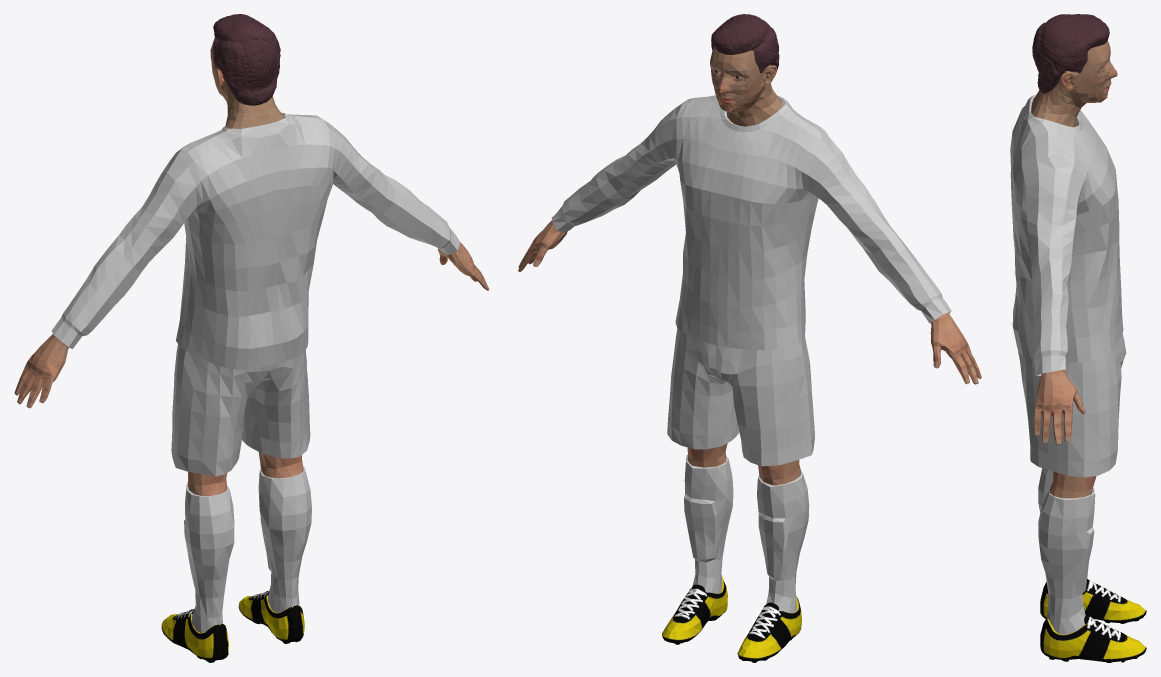
File: long-untucked.obj
The picture shows the model from 3 angles, left to right: view 1: azimuth 30°, elevation 25°; view 2: azimuth 150°, elevation 25°; view 3: azimuth 270°, elevation 25°; orthographic projection. The views are drawn at different scales.
Parts seen in each view (by area): view 1: long-untucked, untucked, base_socks, hair_short_04.001, base_boots.001, base_hands, base_head.002, base_knees; view 2: long-untucked, untucked, base_socks, base_boots.001, base_head.002, base_hands, hair_short_04.001, base_knees; view 3: long-untucked, untucked, base_socks, base_boots.001, hair_short_04.001, base_head.002, base_hands, base_knees.
Boxes of the visible parts, bbox=[...] form: long-untucked: bbox=[51, 113, 459, 369]; untucked: bbox=[171, 344, 310, 476]; base_socks: bbox=[184, 466, 311, 633]; hair_short_04.001: bbox=[213, 14, 280, 105]; base_boots.001: bbox=[161, 590, 304, 662]; base_hands: bbox=[14, 242, 489, 408]; base_head.002: bbox=[210, 37, 283, 128]; base_knees: bbox=[187, 452, 303, 495]; long-untucked: bbox=[551, 95, 951, 350]; untucked: bbox=[667, 328, 814, 466]; base_socks: bbox=[684, 454, 809, 612]; base_boots.001: bbox=[662, 576, 801, 662]; base_head.002: bbox=[710, 45, 782, 126]; base_hands: bbox=[518, 220, 981, 384]; hair_short_04.001: bbox=[711, 14, 779, 73]; base_knees: bbox=[687, 443, 801, 485]; long-untucked: bbox=[1010, 94, 1123, 375]; untucked: bbox=[1017, 334, 1126, 477]; base_socks: bbox=[1038, 468, 1095, 634]; base_boots.001: bbox=[1040, 579, 1146, 662]; hair_short_04.001: bbox=[1032, 14, 1109, 93]; base_head.002: bbox=[1031, 40, 1117, 127]; base_hands: bbox=[1034, 369, 1086, 445]; base_knees: bbox=[1049, 471, 1096, 498].
Size of the model in its own units: 1.45 by 1.84 by 0.3669.
